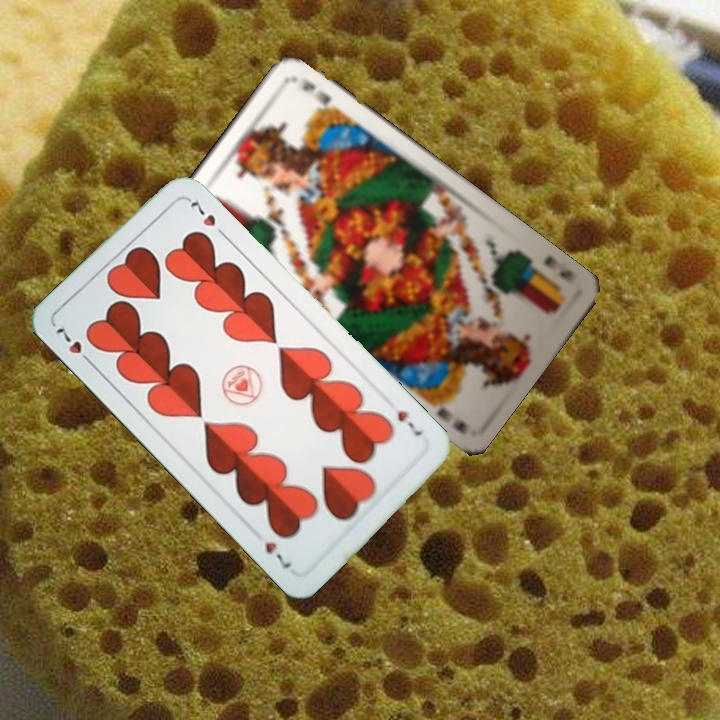EK: (539, 251, 578, 285)
H7: (50, 323, 97, 369), (393, 407, 425, 439)
